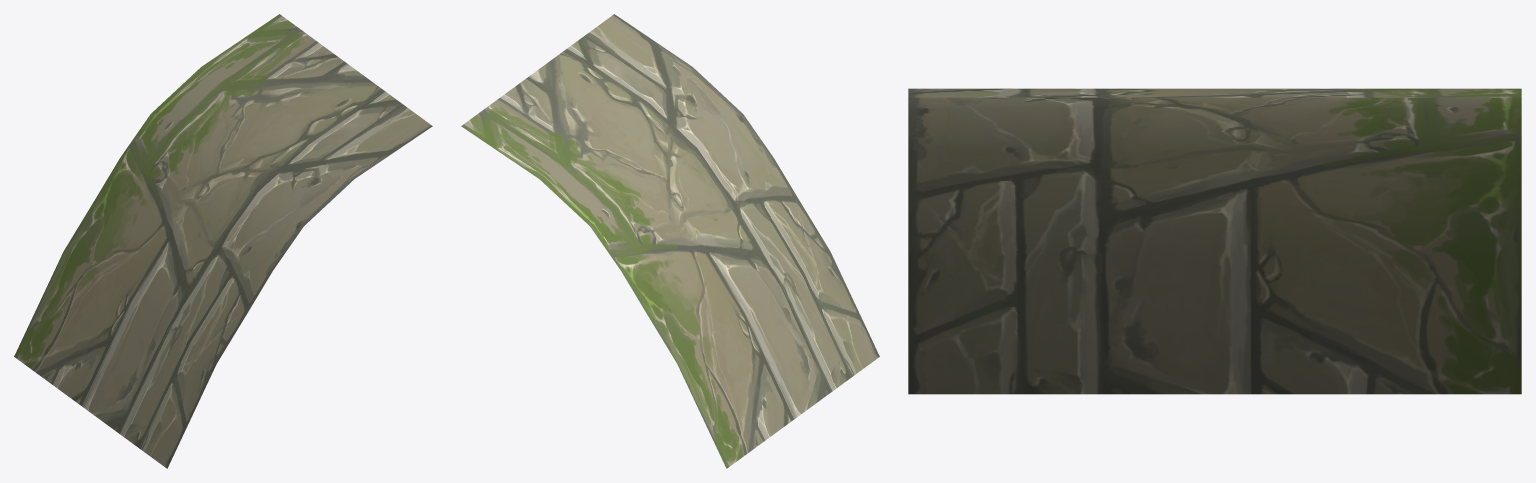
File: concave_type1.fbx
3 views of the same model, side by side, from view 1: azimuth 30°, elevation 25°; view 2: azimuth 150°, elevation 25°; view 3: azimuth 270°, elevation 25° (orthographic). The views are drawn at different scales.
Visible parts, largest first — view 1: concave1_v; view 2: concave1_v; view 3: concave1_v.
Part boxes in pixels (x1,y1,x2,y2): concave1_v: (14, 14, 432, 468); concave1_v: (461, 14, 879, 468); concave1_v: (908, 88, 1521, 394).
Bounding box in the file's own units: 2 × 2 × 2.
